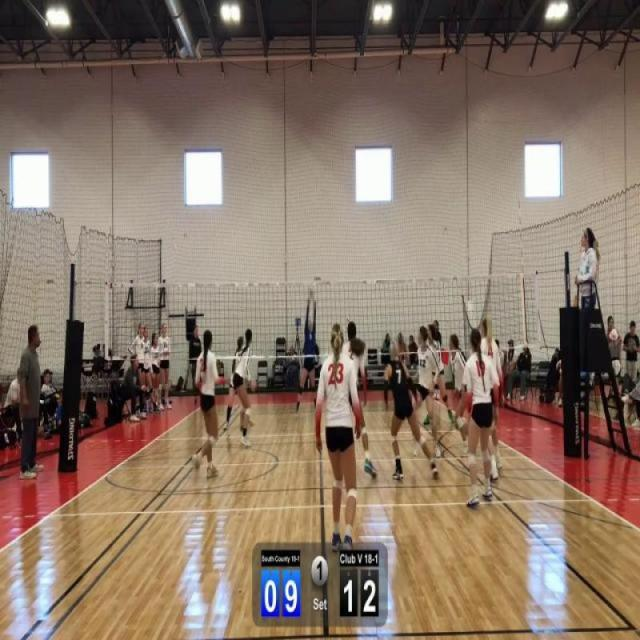volleyball: (308, 285, 316, 300)
